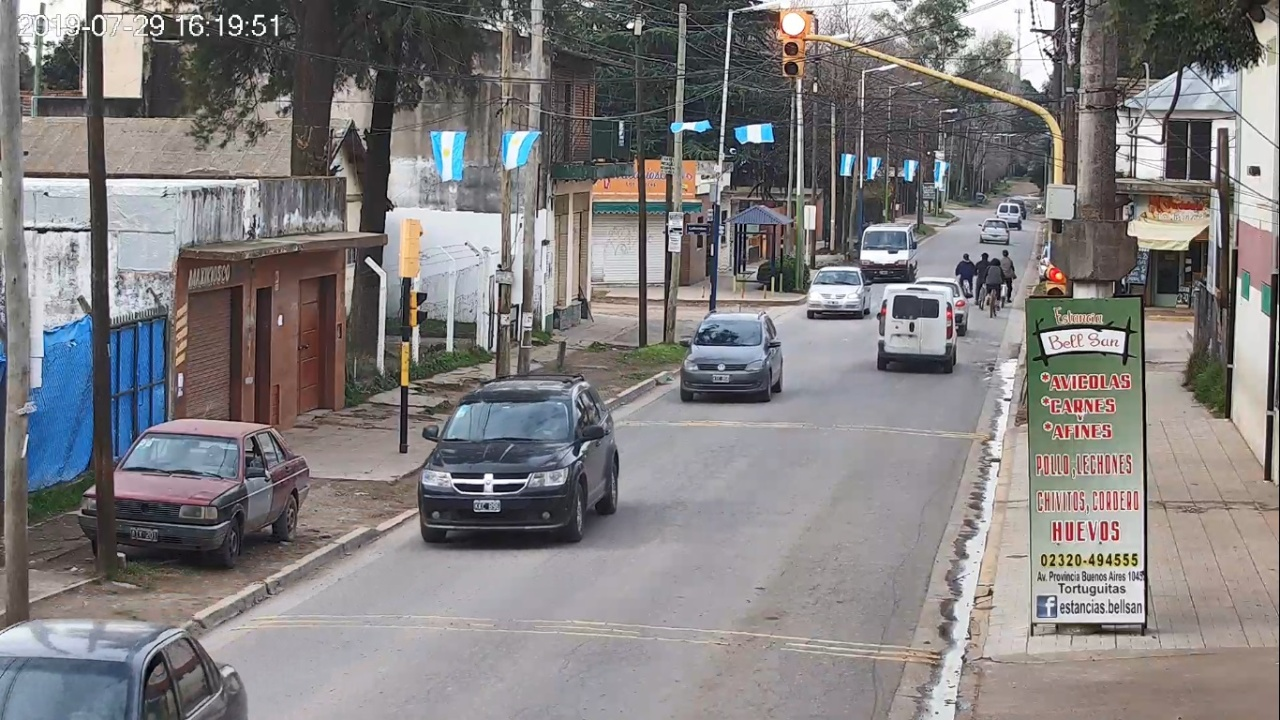car: (877, 286, 961, 373)
front car: (417, 376, 619, 543), (680, 312, 783, 402)
traffic light: (783, 11, 804, 76)
